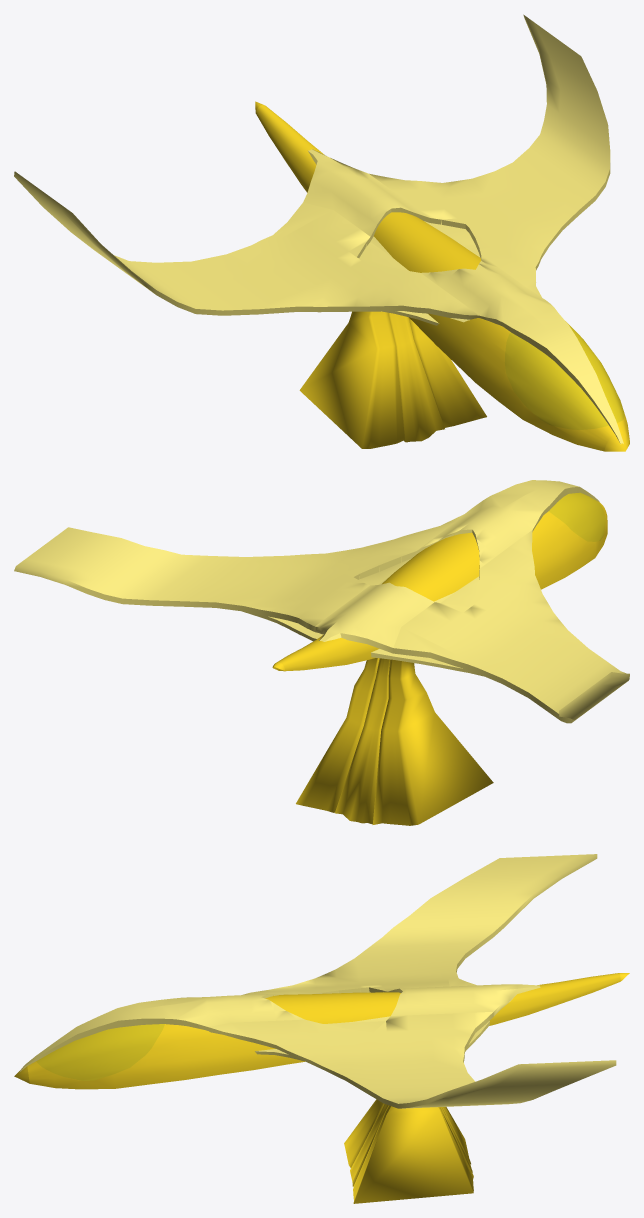
Rendered from JBA_SpaceGhost1.fbx.
3 renders of one model, top to bottom at view 1: azimuth 30°, elevation 25°; view 2: azimuth 150°, elevation 25°; view 3: azimuth 270°, elevation 25°, orthographic. The views are drawn at different scales.
Parts seen in each view (by area): view 1: Asas, Corpo_da_Nave_, Capota; view 2: Asas, Corpo_da_Nave_, Capota, Turbina_Direita, Turbina_Esquerda; view 3: Asas, Corpo_da_Nave_, Capota.
Boxes of the visible parts, box(x1,y1,x2,y2) form: Asas: box(14, 14, 623, 444); Corpo_da_Nave_: box(255, 101, 629, 451); Capota: box(504, 325, 624, 429); Asas: box(14, 480, 629, 723); Corpo_da_Nave_: box(272, 501, 607, 825); Capota: box(548, 492, 605, 541); Turbina_Direita: box(371, 649, 483, 676); Turbina_Esquerda: box(242, 611, 322, 641); Asas: box(19, 854, 616, 1108); Corpo_da_Nave_: box(14, 973, 629, 1203); Capota: box(36, 1024, 164, 1080).
Size of the model in its own units: 67.68 by 31.78 by 77.13.
